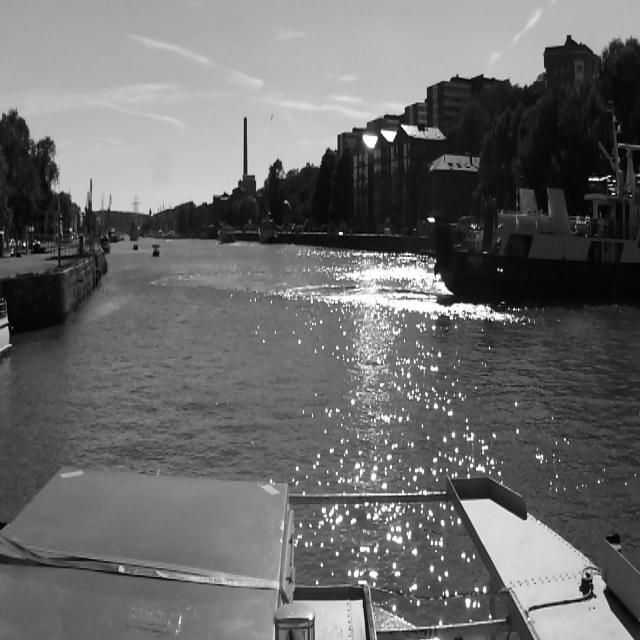ship: (432, 110, 640, 300), (152, 243, 160, 257), (133, 242, 139, 250)
